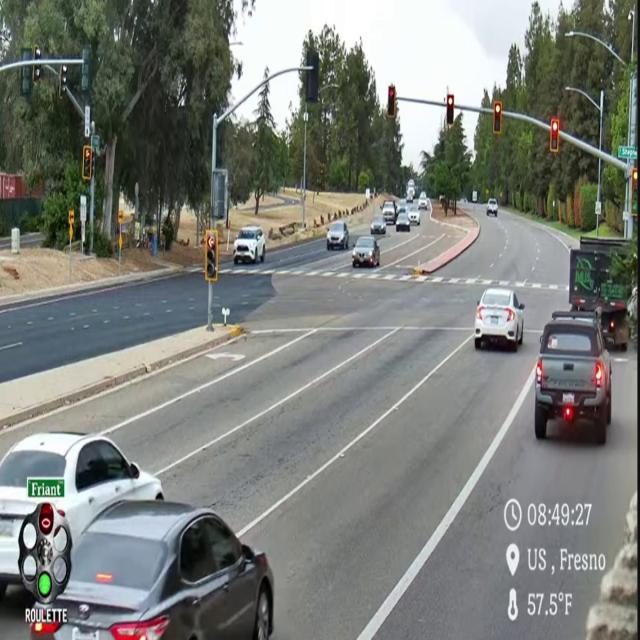car: (31, 502, 274, 639), (0, 432, 163, 598), (535, 312, 614, 444), (475, 288, 524, 351), (234, 225, 265, 263), (352, 235, 380, 268), (327, 221, 348, 250), (382, 200, 397, 224), (370, 216, 386, 234), (396, 212, 410, 231), (408, 208, 420, 225), (487, 199, 497, 216), (418, 192, 427, 210)
traffic signal: (306, 50, 319, 103), (205, 230, 218, 281), (81, 47, 91, 95), (82, 145, 93, 181), (21, 65, 32, 98), (32, 45, 41, 82), (550, 119, 559, 153), (387, 85, 396, 119), (493, 101, 502, 135), (59, 65, 67, 98), (446, 95, 454, 127), (632, 168, 637, 190)
truck: (569, 237, 631, 351), (407, 180, 415, 202)
